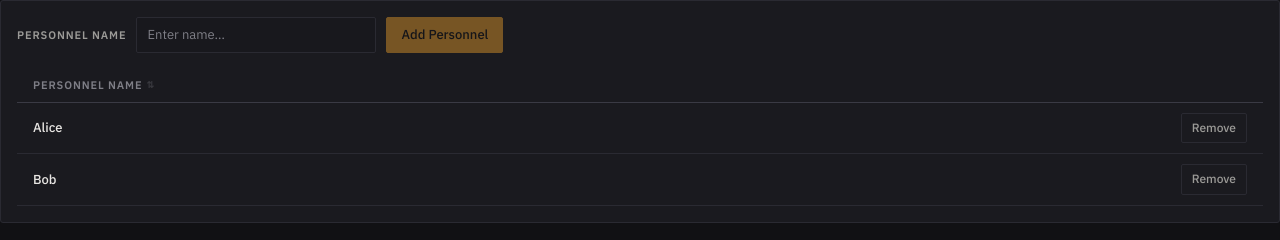
Test: PersonnelPanel › cancels the removal when cancel is clicked
The width and height of the screenshot is (1280, 240).
Click the button with test id "personnel-remove-Bob": click(1214, 180) [1181,164,1247,195]
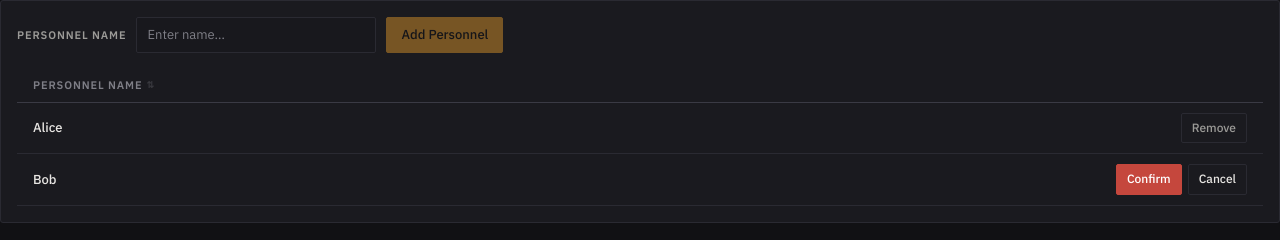
Now the button with test id "personnel-confirm-Bob" is shown, box [1116,164,1182,195]
Click the button "Cancel": click(1217, 180) [1188,164,1247,195]
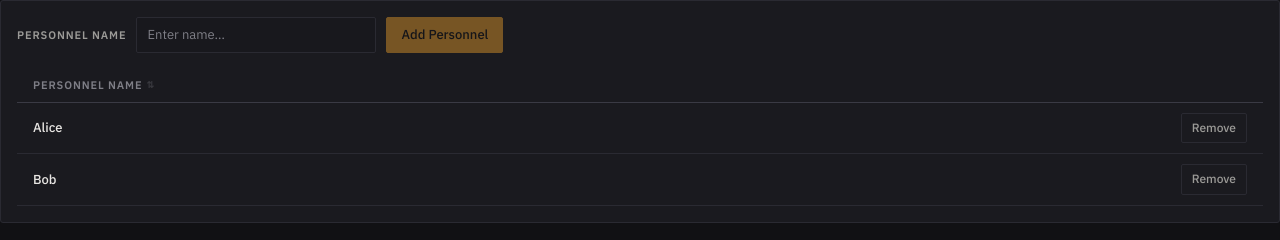
Now the button with test id "personnel-remove-Bob" is shown, box [1181,164,1247,195]
